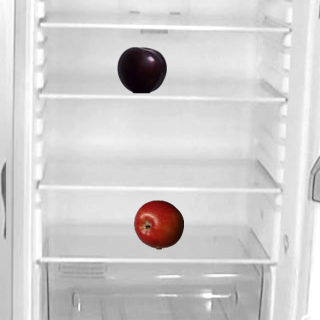Apple Braeburn: (133, 199, 183, 249)
Cherry Wax Black: (116, 44, 166, 94)
